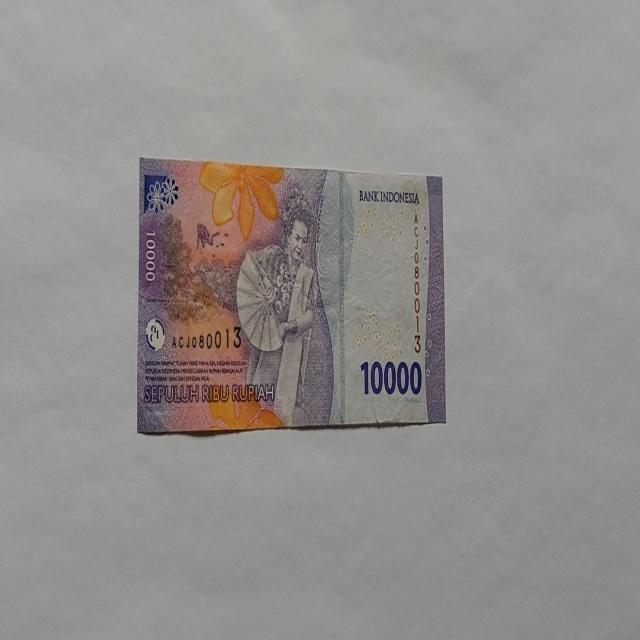sepuluh ribu rupiah: (136, 157, 446, 435)
